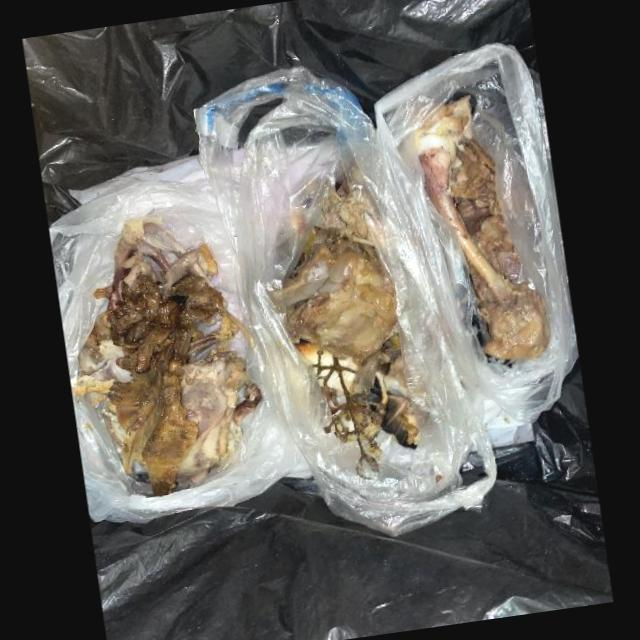bao_bi_thuc_pham: (283, 167, 420, 480)
thuc_an_thua: (75, 222, 263, 496), (405, 93, 550, 360)
tui_ni_long: (193, 62, 497, 534), (375, 41, 579, 446), (67, 352, 310, 522), (49, 156, 243, 358)
